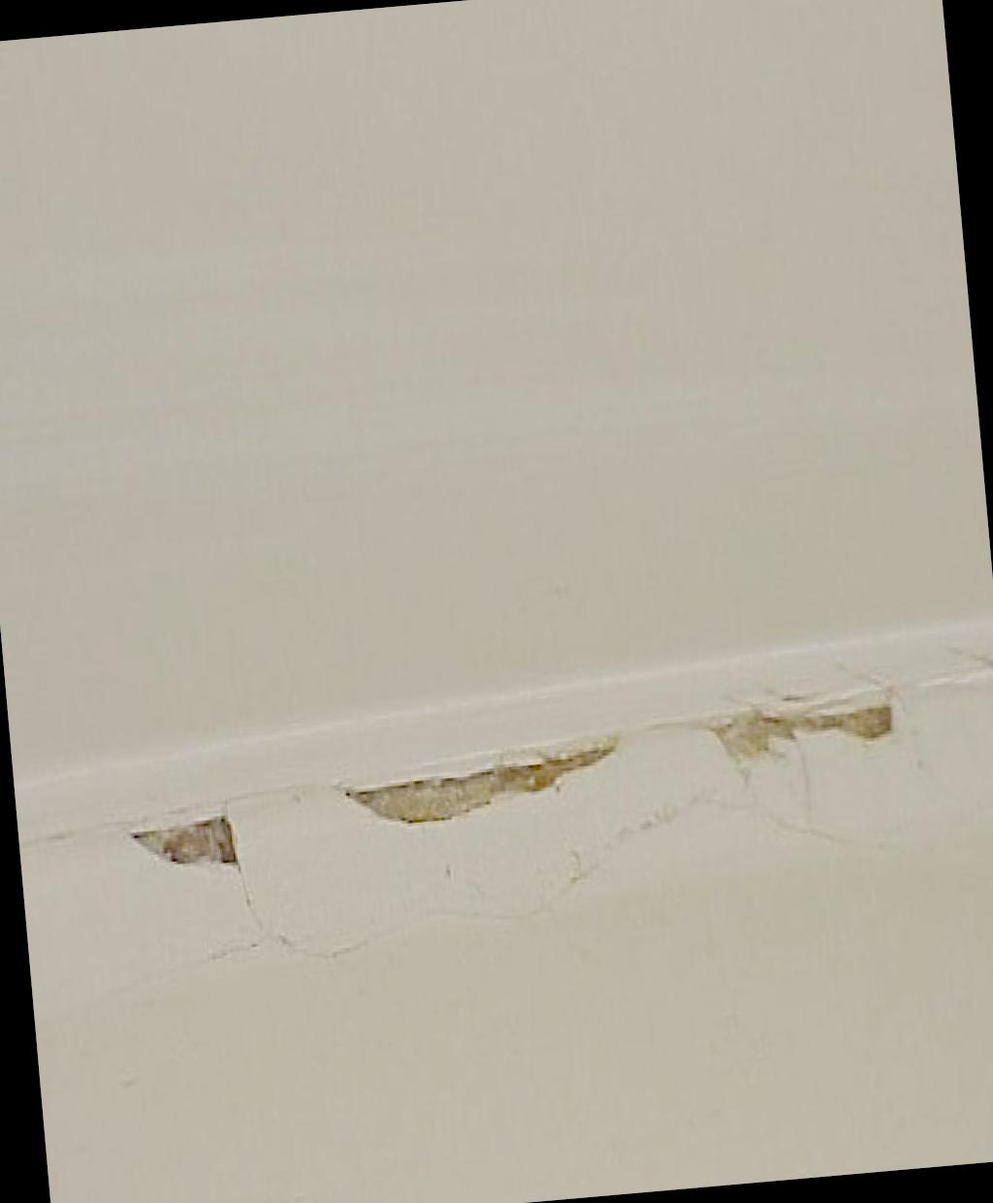crack: (114, 667, 920, 884)
